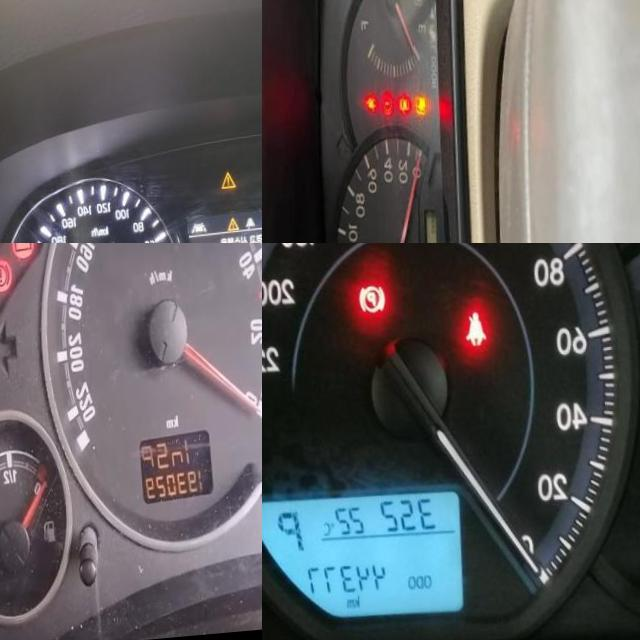Central Warning lamp: (218, 174, 235, 195)
Seat Belt: (462, 318, 483, 354), (363, 99, 376, 117)
